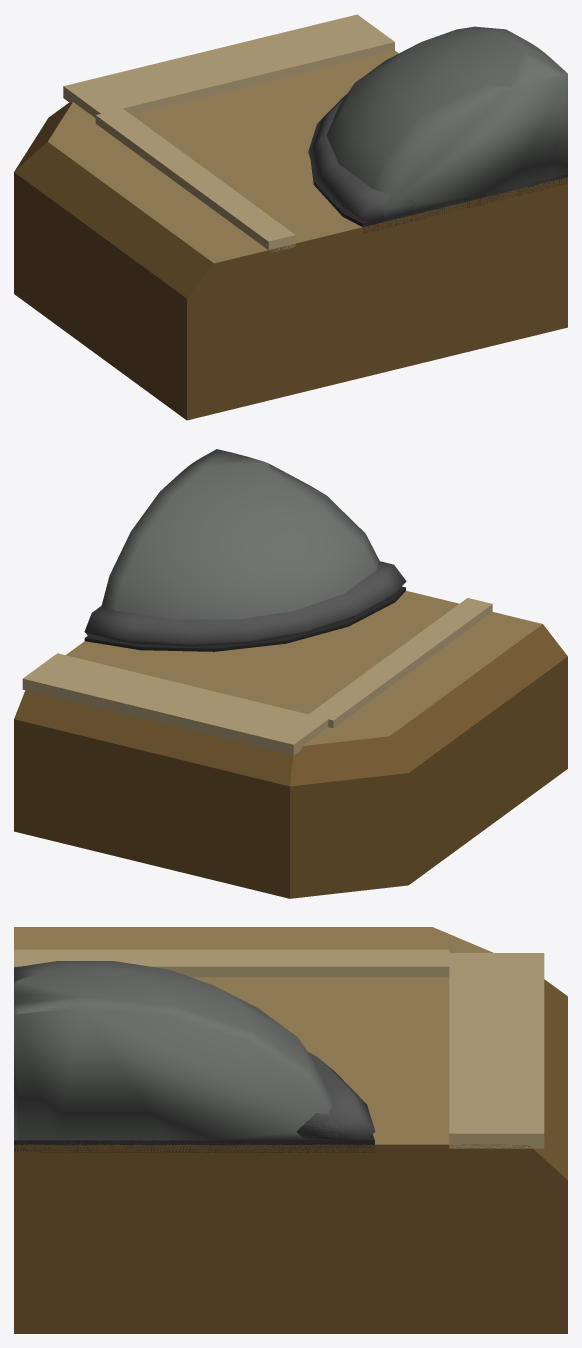
Rendered from newsha-83.glb.
3 renders of one model, top to bottom at view 1: azimuth 30°, elevation 25°; view 2: azimuth 150°, elevation 25°; view 3: azimuth 270°, elevation 25°, orthographic. The views are drawn at different scales.
Visible parts, largest first — view 1: newsha-83; view 2: newsha-83; view 3: newsha-83.
Part boxes in pixels (left/top/right/bottom): newsha-83: left=14, top=14, right=567, bottom=420; newsha-83: left=14, top=449, right=567, bottom=898; newsha-83: left=14, top=927, right=567, bottom=1333.
Size of the model in its own units: 1.17 by 0.76 by 1.17.
